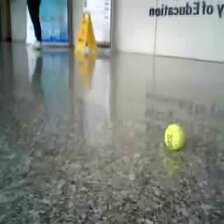tennis: (164, 124, 184, 150)
